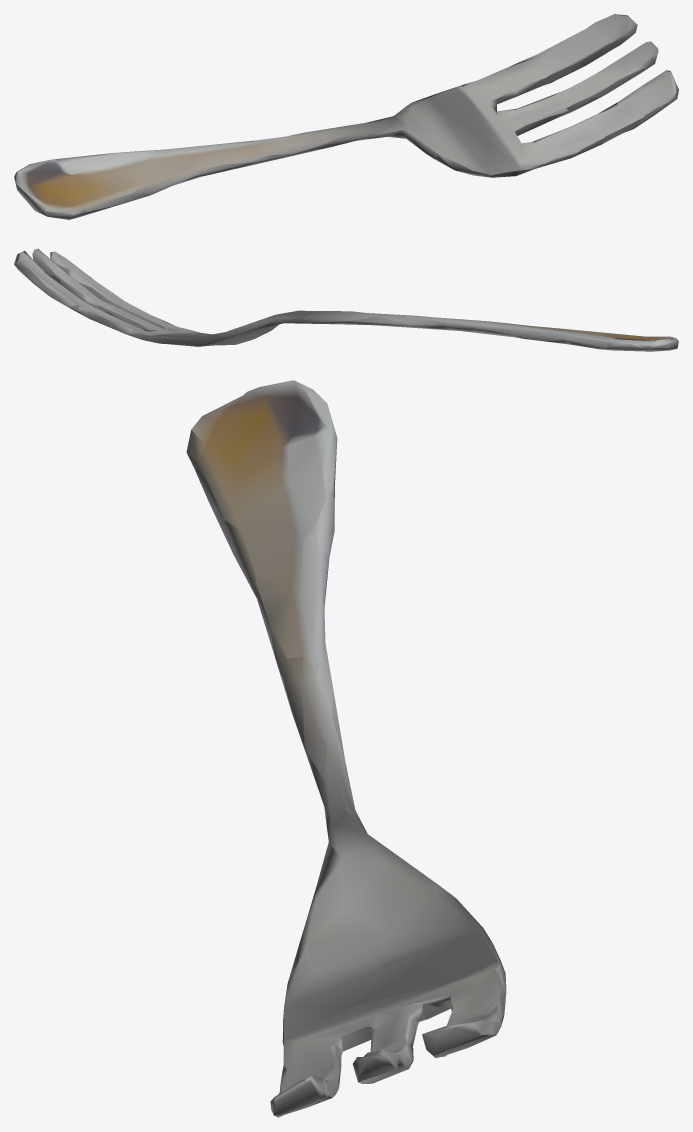
The model's file is 0013_mask_014_fork.glb.
The picture shows the model from 3 angles, top to bottom: view 1: azimuth 30°, elevation 25°; view 2: azimuth 150°, elevation 25°; view 3: azimuth 270°, elevation 25°; orthographic projection. The views are drawn at different scales.
Visible parts, largest first — view 1: mask_014_object; view 2: mask_014_object; view 3: mask_014_object.
Boxes of the visible parts, x1=… form: mask_014_object: x1=14, y1=14, x2=678, y2=219; mask_014_object: x1=14, y1=248, x2=678, y2=351; mask_014_object: x1=186, y1=380, x2=506, y2=1117.
Size of the model in its own units: 0.4035 by 0.0715 by 0.0916.
